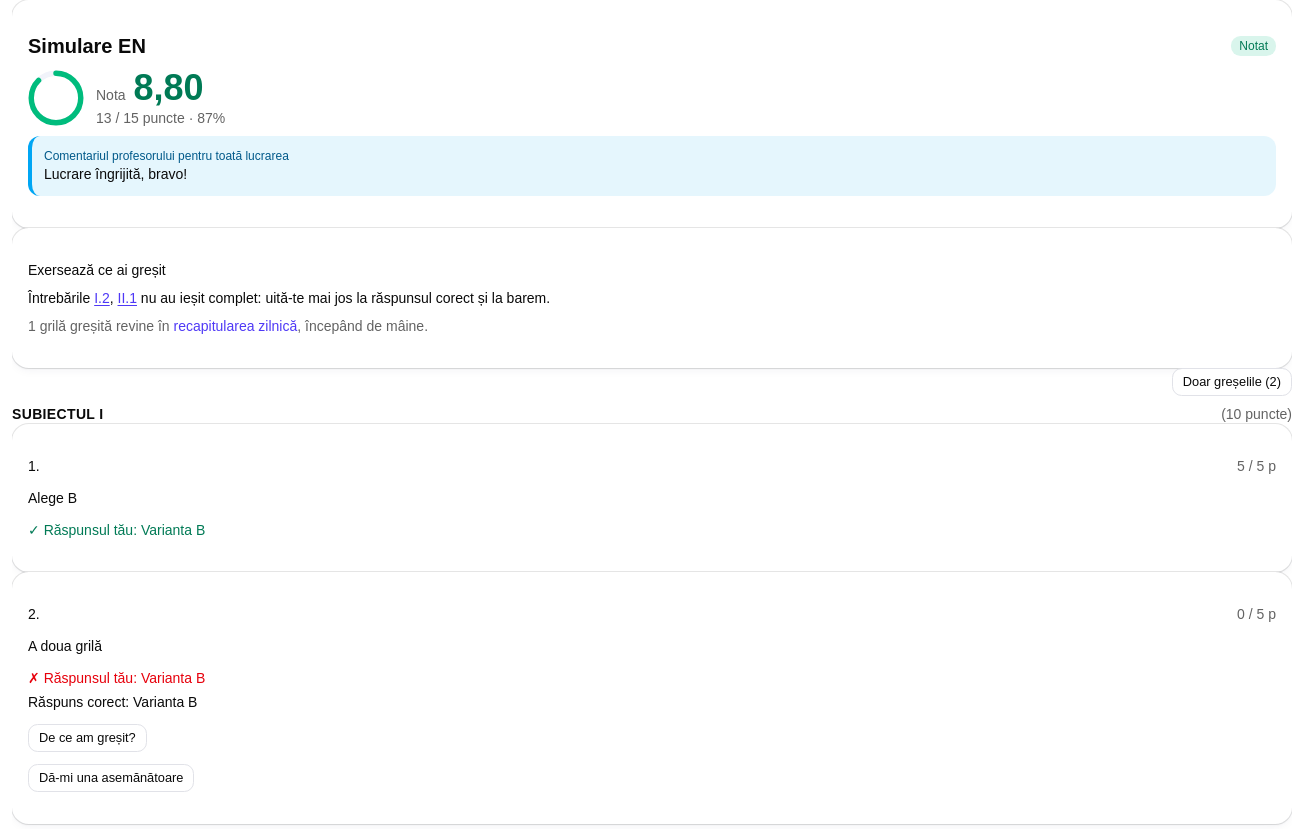
Test: AttemptResultView › keeps the SUBIECTUL heading over the first mistake shown under it
The width and height of the screenshot is (1304, 829).
Click the button "Doar greșelile (2)".
click(1232, 382)  # box [1172,368,1292,396]
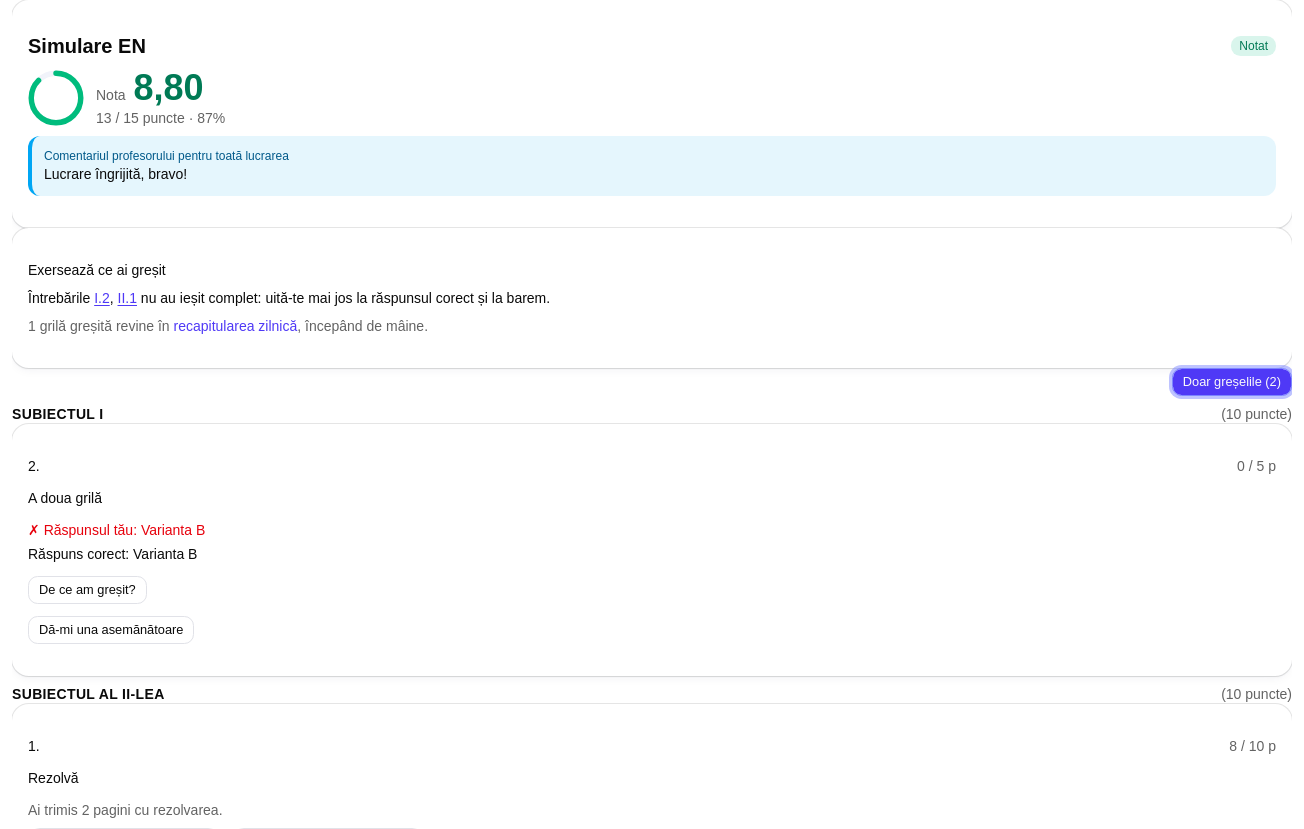
Expected: the heading "SUBIECTUL I" is shown, [12,404,104,424]
Expected: the text "Alege B" is gone
